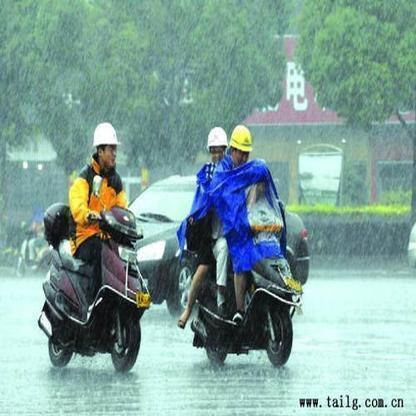target: (179, 122, 306, 366), (38, 118, 152, 373)
